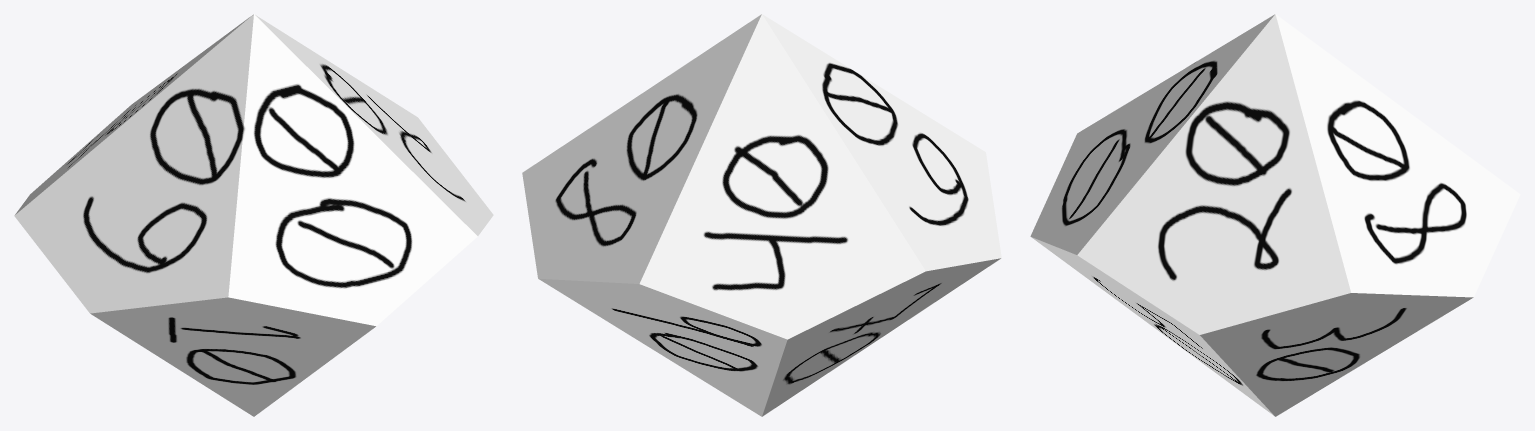
The picture shows the model from 3 angles, left to right: view 1: azimuth 30°, elevation 25°; view 2: azimuth 150°, elevation 25°; view 3: azimuth 270°, elevation 25°; orthographic projection.
Parts seen in each view (by area): view 1: Pentagonal trapezohedron; view 2: Pentagonal trapezohedron; view 3: Pentagonal trapezohedron.
Part boxes in pixels (box(x1,y1,x2,y2)): Pentagonal trapezohedron: box(14, 14, 493, 416); Pentagonal trapezohedron: box(522, 14, 1001, 416); Pentagonal trapezohedron: box(1030, 14, 1520, 416).
Size of the model in its own units: 190 by 181 by 200.
